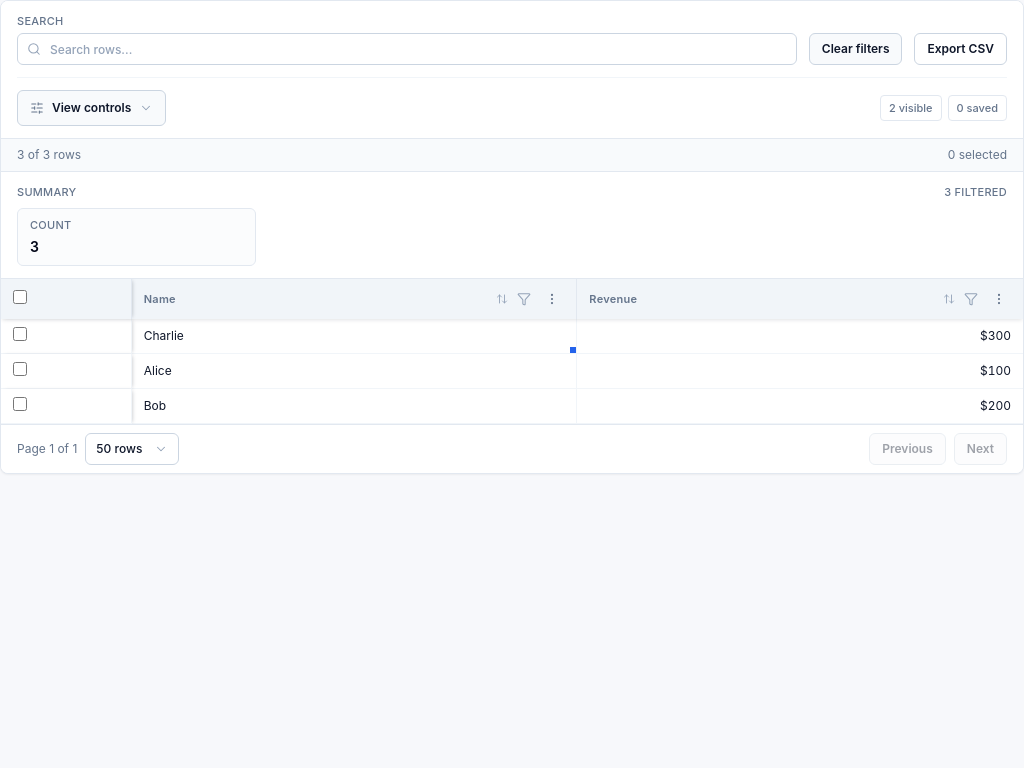
Scenario: DataGrid server mode — manual sorting/filtering › turns summaries and grid grouping off by default in server mode
Expected: the text "Count" is shown, [30,218,72,232]
Click the button "View controls": (92, 108) [17,90,166,126]
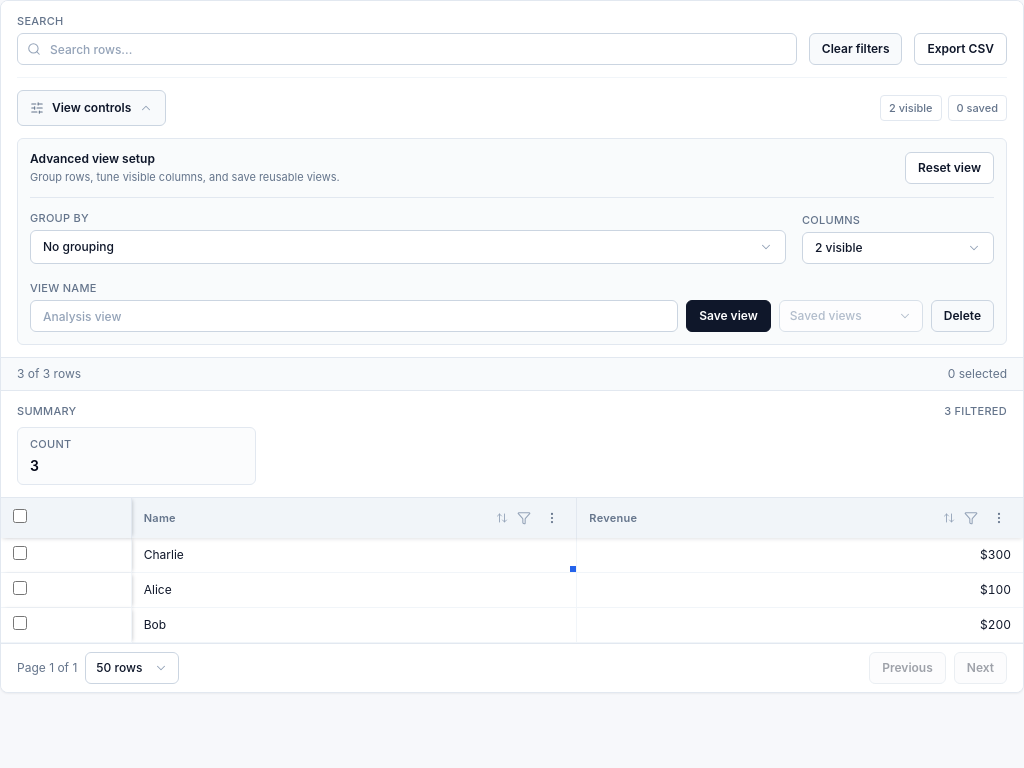
Expected: the text "Group by" is shown, [30,211,89,225]
